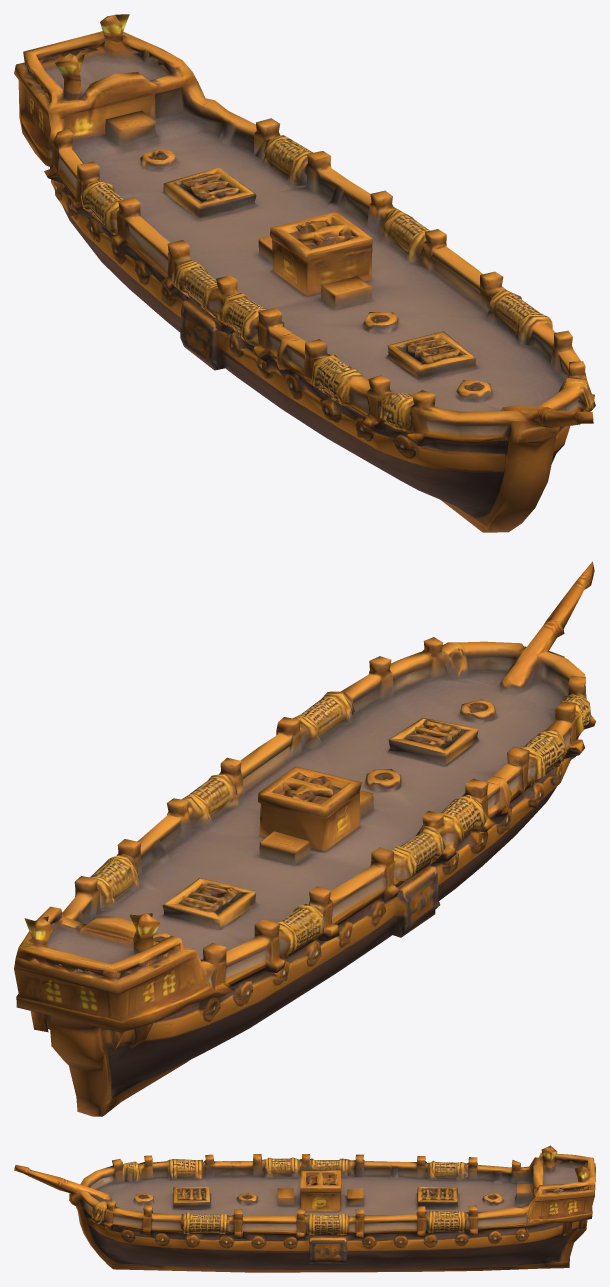
Rendered from model-ship-gilded-tern-hull-01.glb.
The picture shows the model from 3 angles, top to bottom: view 1: azimuth 30°, elevation 25°; view 2: azimuth 150°, elevation 25°; view 3: azimuth 270°, elevation 25°; orthographic projection. The views are drawn at different scales.
Visible parts, largest first — view 1: tripo_node_00be6776-d64b-43b0-b136-e70948e2362c; view 2: tripo_node_00be6776-d64b-43b0-b136-e70948e2362c; view 3: tripo_node_00be6776-d64b-43b0-b136-e70948e2362c.
Part boxes in pixels (x1,y1,x2,y2): tripo_node_00be6776-d64b-43b0-b136-e70948e2362c: (14, 14, 595, 532); tripo_node_00be6776-d64b-43b0-b136-e70948e2362c: (14, 561, 595, 1116); tripo_node_00be6776-d64b-43b0-b136-e70948e2362c: (14, 1145, 595, 1272).
Size of the model in its own units: 1.49 by 1.2 by 5.64.
Materials: 1 (1 with a texture image).
